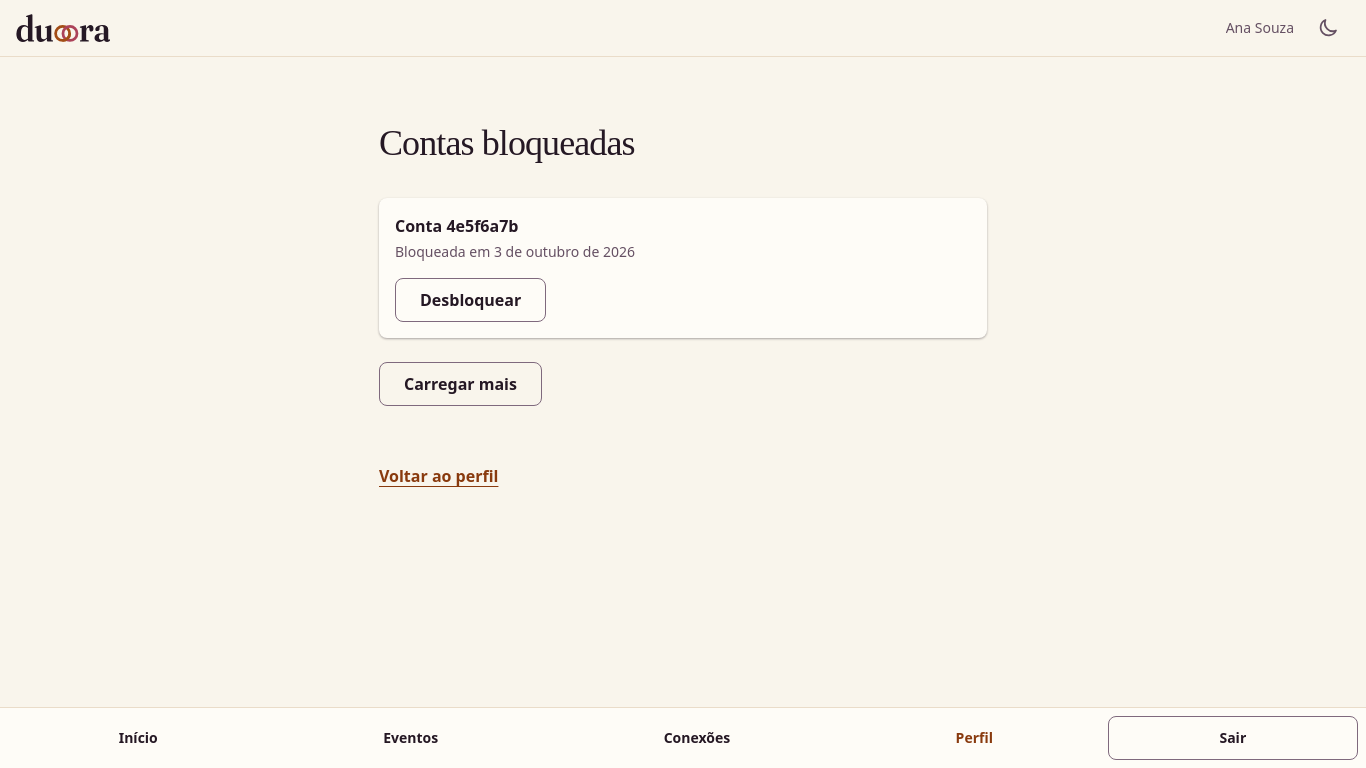
blocked accounts page › keeps the loaded blocks and offers to try again when the next page fails
Click the button "Carregar mais": (460, 384) [379, 362, 542, 406]
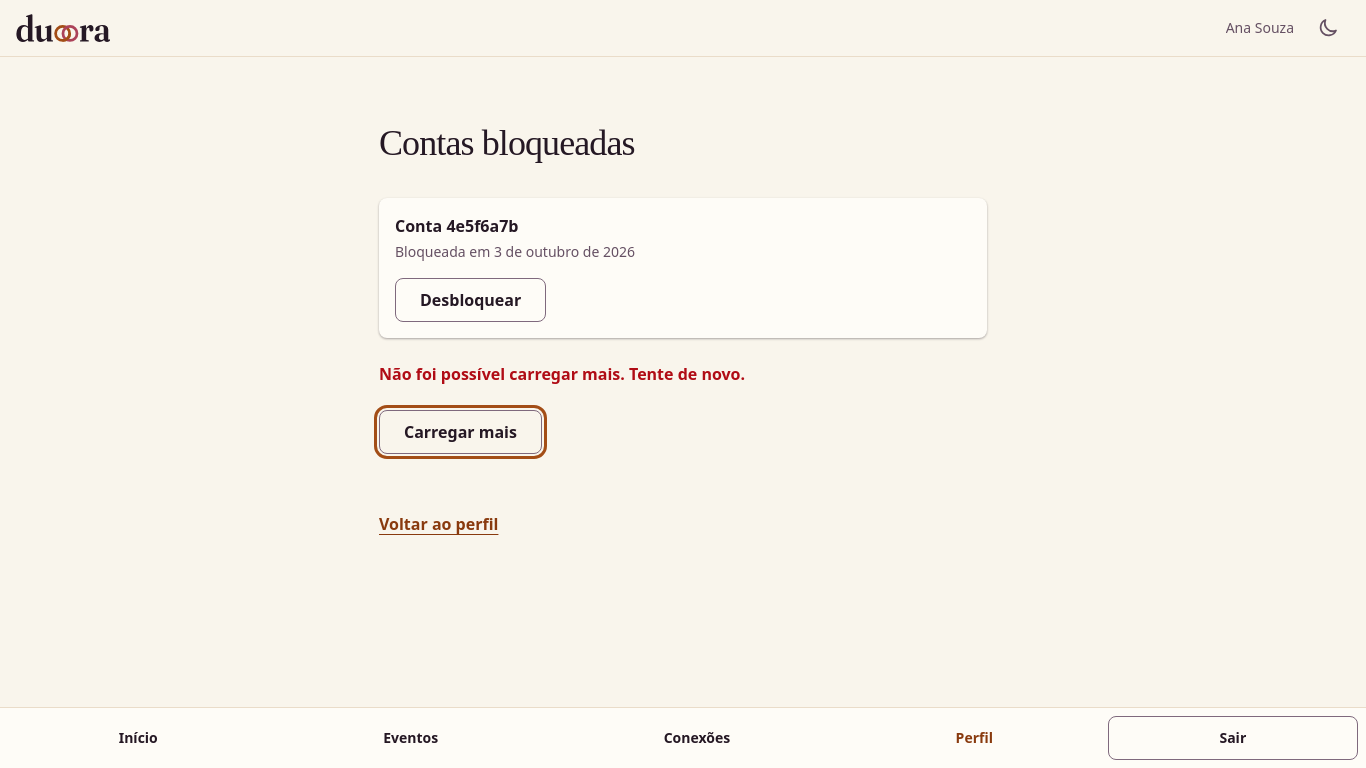
Expected: the text "Bloqueada em 3 de outubro de 2026" is shown, [395, 242, 635, 261]
Now the message reads "Não foi possível carregar mais. Tente de novo.", box [379, 363, 745, 385]
Click the button "Carregar mais": (460, 432) [379, 410, 542, 454]
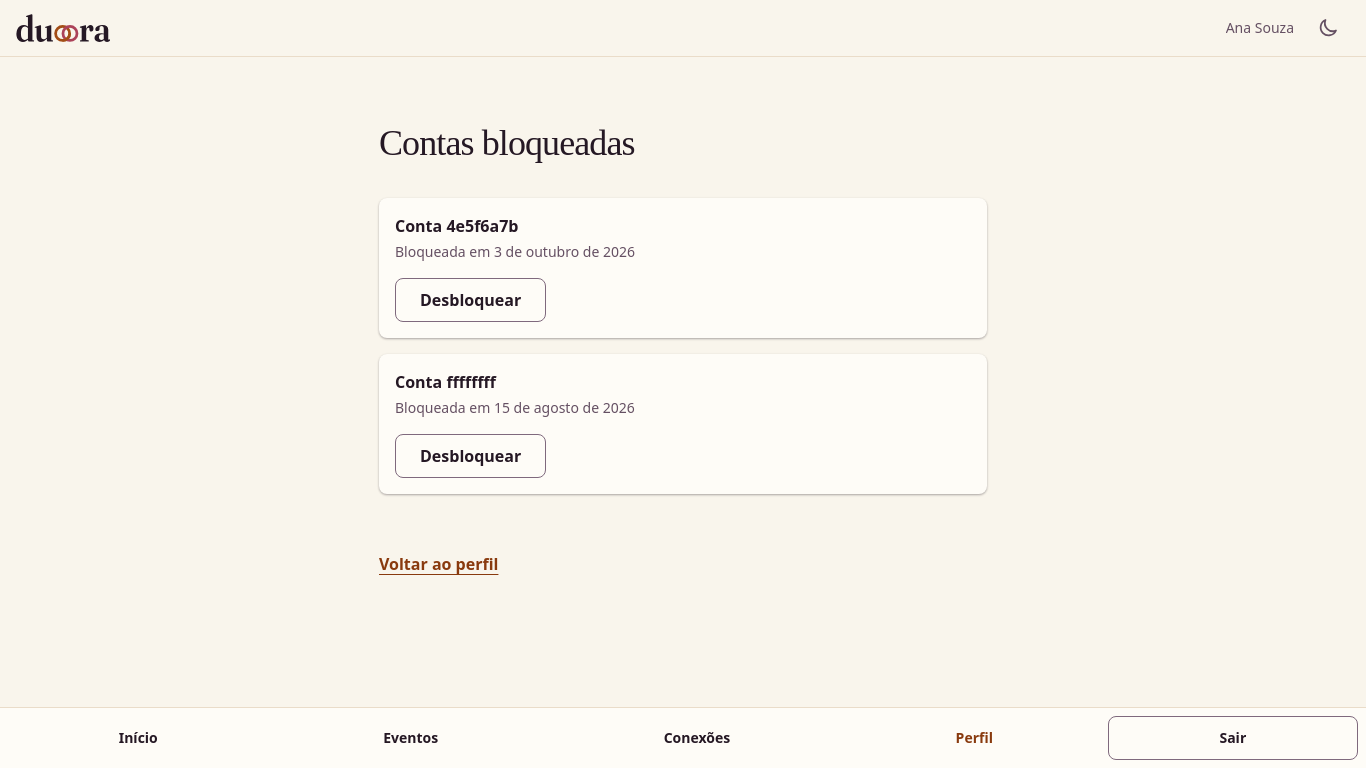
Now the list item "Conta ffffffff Bloqueada em 15 de agosto de 2026 Desbloquear" is shown, box [379, 354, 987, 494]
Now the message "Não foi possível carregar mais. Tente de novo." is gone
